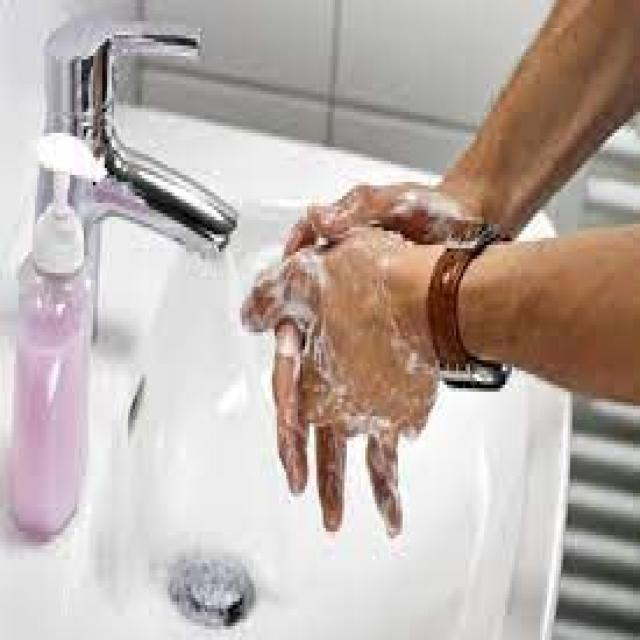hour: (432, 186, 520, 430)
tap: (50, 14, 236, 271)
wash basin: (19, 154, 572, 640)
